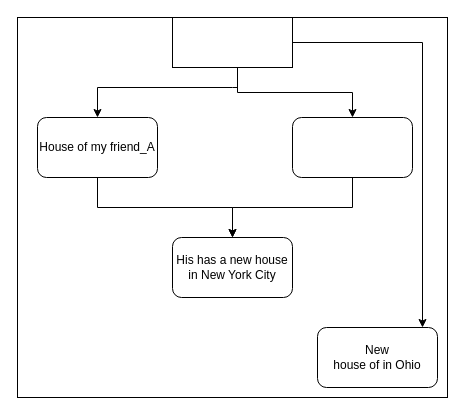
Image size: 465x415. Some labels were removed from this diagram. Here are the shapes that lost their labels. From the top down, the centre of each, then its label:
At pixel 232 42: "MyHouse".
At pixel 352 147: "House of my friend_B".
